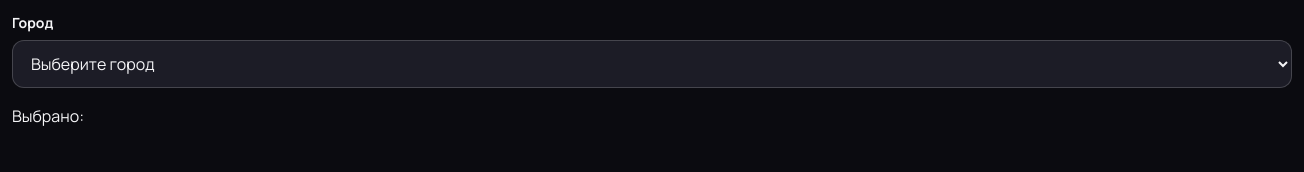
Test: Select › управляемый: показывает value и сообщает выбор строкой
Select "Астана" in the dropdown labelled "Город": point(652, 64) [12, 40, 1292, 88]
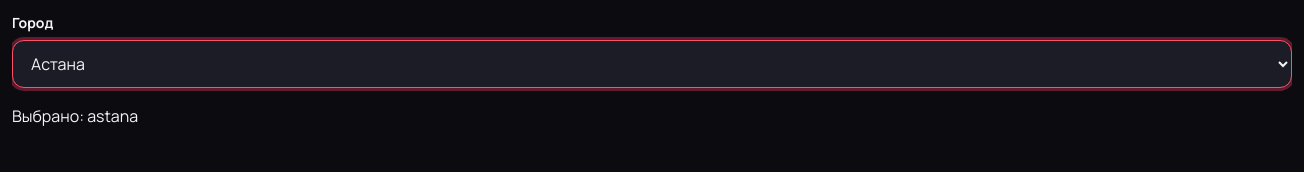
expect the text "Выбрано: astana" is shown: met, box [12, 105, 138, 127]
